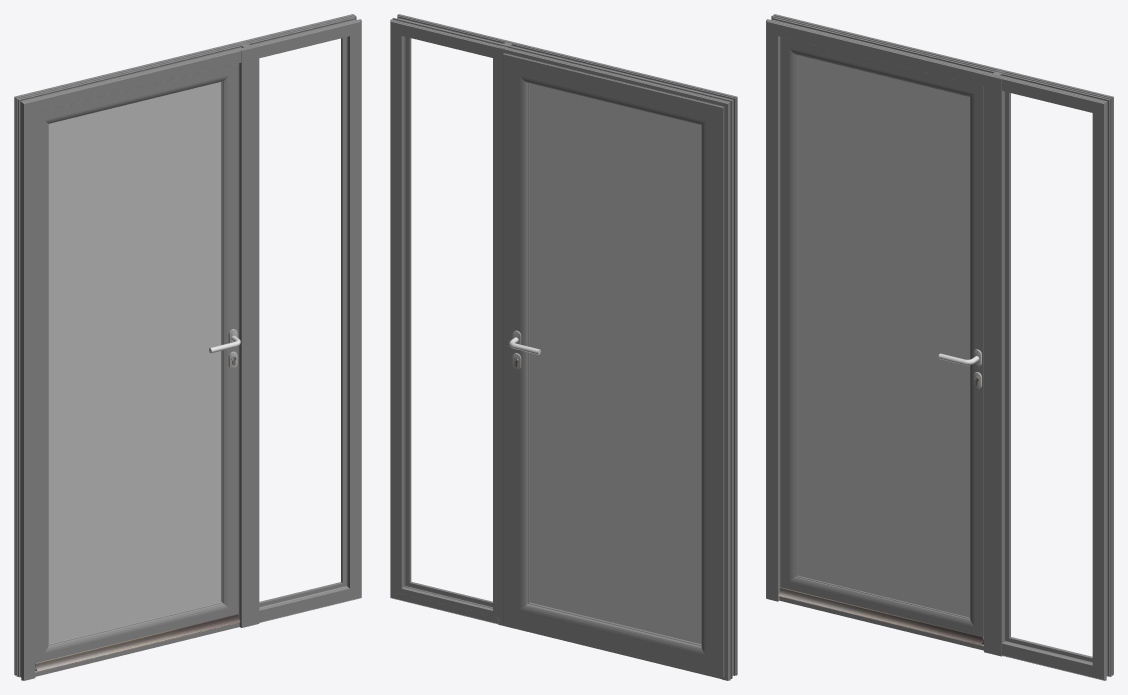
3 views of the same model, side by side, from view 1: azimuth 30°, elevation 25°; view 2: azimuth 150°, elevation 25°; view 3: azimuth 330°, elevation 25° (orthographic).
Parts seen in each view (by area): view 1: glass_frente_desenho, aroFixo, aroMovel, montanteCentral, bite, borracha, escovas, rodaPe; view 2: glass_frente_desenho, aroMovel, aroFixo, bite, montanteCentral, borracha, rodaPe; view 3: glass_frente_desenho, aroFixo, aroMovel, montanteCentral, bite, escovas, borracha, rodaPe.
Part boxes in pixels (x1,y1,x2,y2): glass_frente_desenho: [48, 82, 221, 643]; aroFixo: [14, 14, 361, 680]; aroMovel: [35, 63, 238, 663]; montanteCentral: [238, 42, 259, 627]; bite: [259, 37, 346, 607]; borracha: [259, 37, 345, 606]; escovas: [35, 614, 240, 671]; rodaPe: [35, 622, 239, 676]; glass_frente_desenho: [529, 83, 701, 644]; aroMovel: [503, 53, 724, 677]; aroFixo: [390, 14, 737, 680]; bite: [396, 29, 498, 617]; montanteCentral: [498, 40, 518, 626]; borracha: [404, 36, 492, 608]; rodaPe: [505, 624, 721, 679]; glass_frente_desenho: [797, 55, 969, 617]; aroFixo: [766, 14, 1113, 680]; aroMovel: [780, 37, 983, 638]; montanteCentral: [984, 70, 1004, 656]; bite: [1005, 91, 1092, 661]; escovas: [778, 587, 983, 645]; borracha: [1006, 92, 1092, 660]; rodaPe: [779, 596, 983, 650].
Bounding box in the file's own units: 1320 × 2149 × 185.
9 materials, 4 textured.
